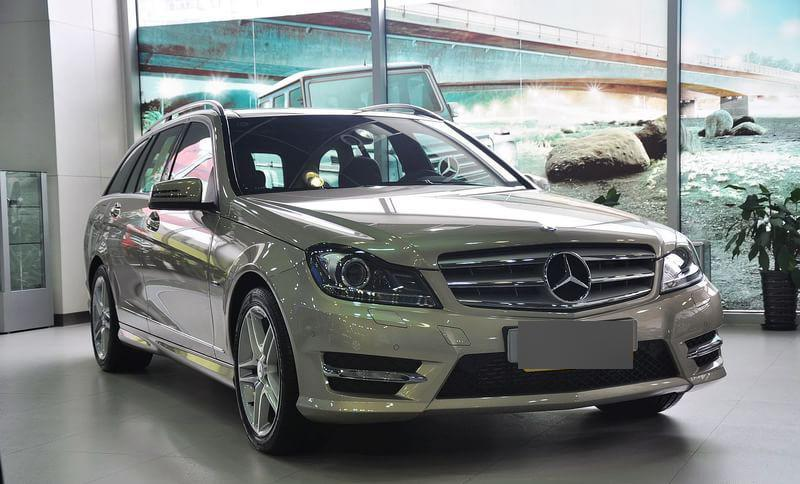Wagon: (81, 99, 726, 455)
